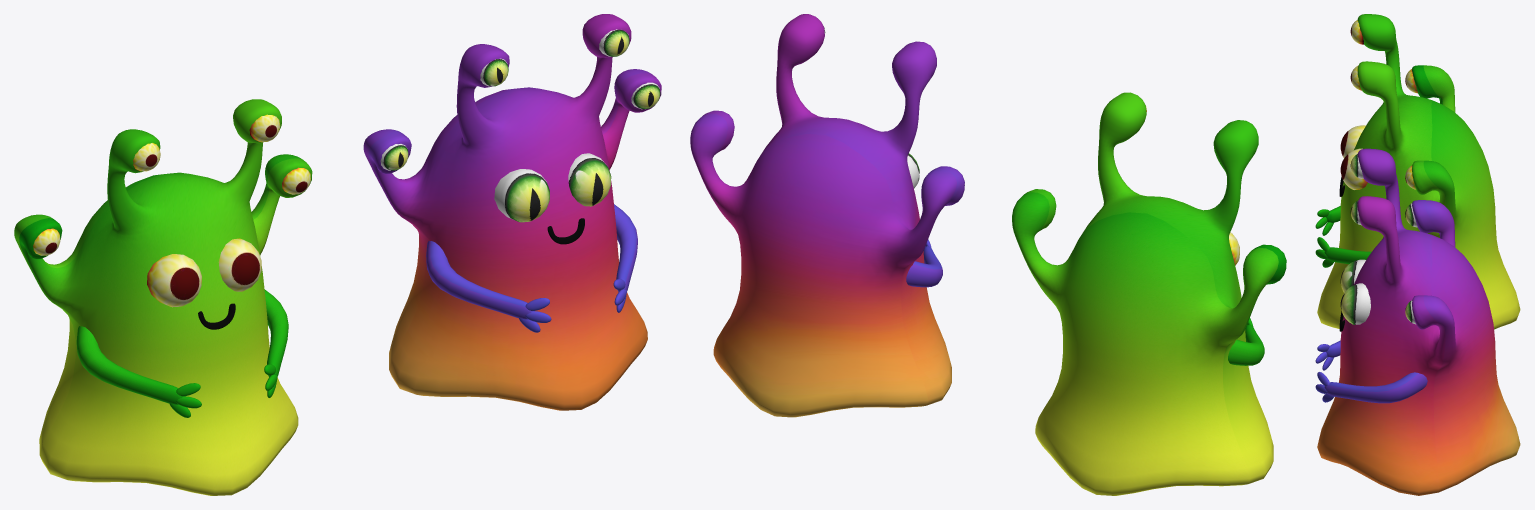
File: _SlingBoom_NV.fbx
3 views of the same model, side by side, from view 1: azimuth 30°, elevation 25°; view 2: azimuth 150°, elevation 25°; view 3: azimuth 270°, elevation 25° (orthographic). The views are drawn at different scales.
Visible parts, largest first — view 1: Xanh, Do; view 2: Do, Xanh; view 3: Do, Xanh.
Part boxes in pixels (bbox=[...]): Xanh: bbox=[14, 99, 312, 495]; Do: bbox=[363, 14, 661, 410]; Do: bbox=[690, 14, 964, 417]; Xanh: bbox=[1012, 92, 1286, 495]; Do: bbox=[1315, 148, 1520, 495]; Xanh: bbox=[1315, 14, 1520, 329].
Bounding box in the file's own units: 6.95 × 3.73 × 2.46.
Materials: 5 (4 with a texture image).
